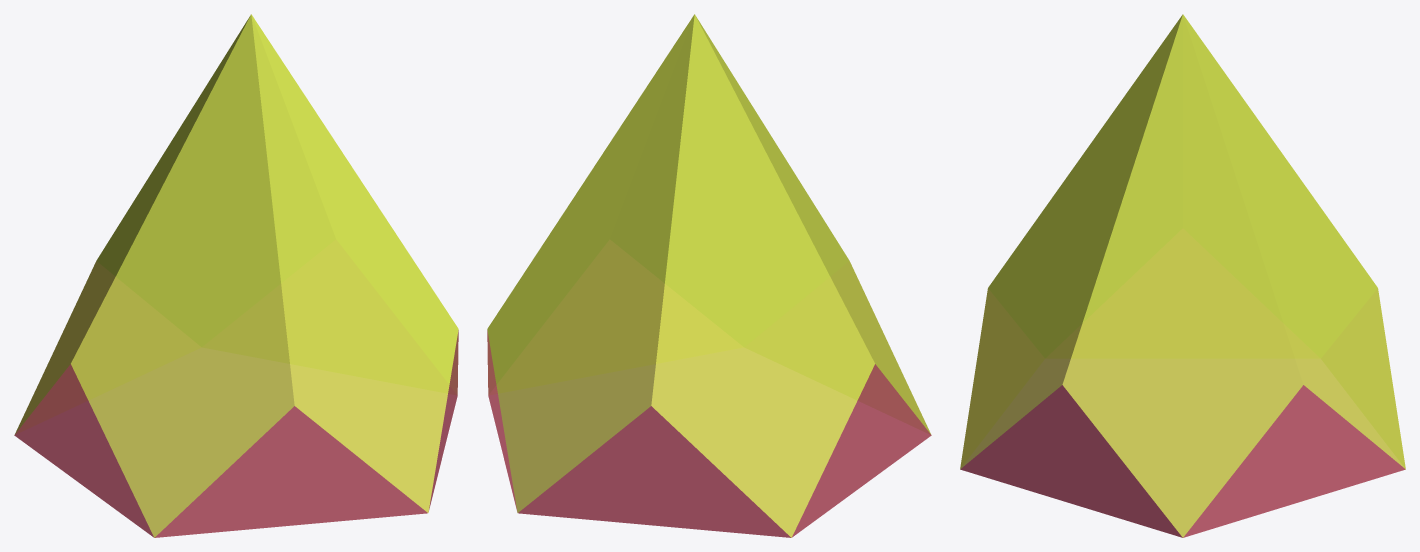
Rendered from pipa5.obj.
3 renders of one model, left to right at view 1: azimuth 30°, elevation 25°; view 2: azimuth 150°, elevation 25°; view 3: azimuth 270°, elevation 25°, orthographic.
Size of the model in its own units: 1.87 by 2 by 1.9.
